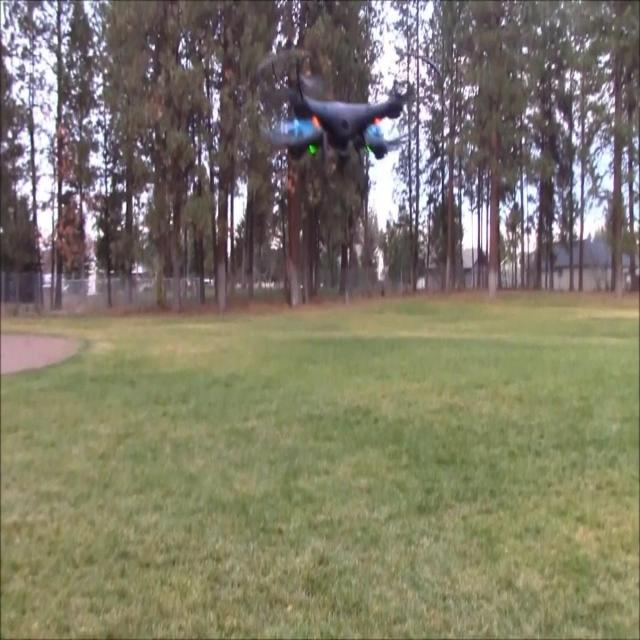drone: (254, 51, 418, 175)
